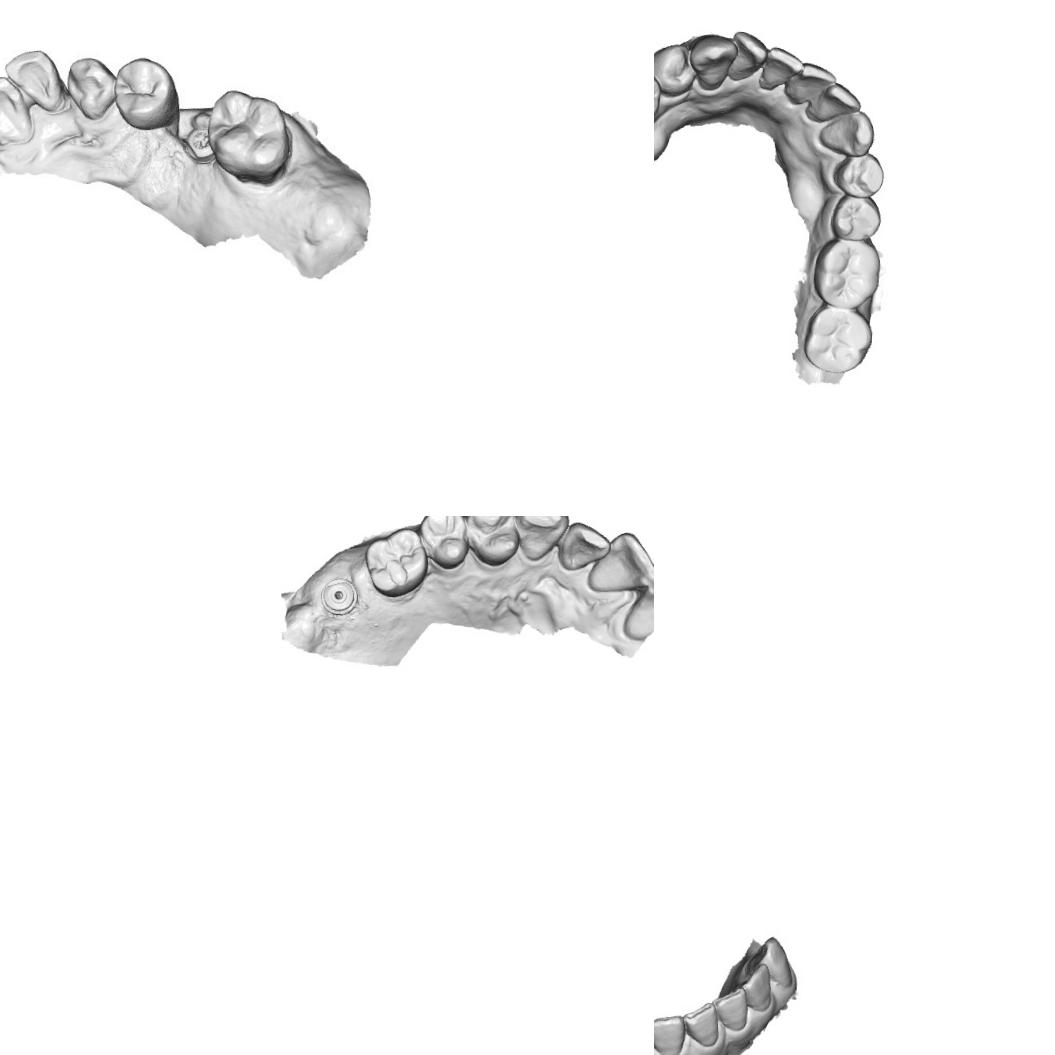canine: (60, 52, 118, 120), (686, 31, 739, 92), (816, 107, 876, 158), (510, 516, 570, 566)
implant: (319, 573, 358, 617), (184, 123, 218, 160)
incisor: (584, 527, 654, 598), (0, 46, 66, 112), (556, 518, 613, 576), (744, 933, 797, 988), (803, 79, 862, 125), (0, 71, 34, 147), (783, 59, 837, 106), (619, 572, 654, 641), (725, 29, 768, 82), (757, 45, 804, 92), (733, 961, 773, 1012), (681, 1000, 720, 1048), (710, 984, 748, 1032), (654, 1010, 685, 1055)
molar: (204, 87, 294, 186), (361, 524, 432, 600), (811, 236, 882, 310), (801, 303, 873, 375)
premolar: (112, 53, 182, 134), (414, 516, 472, 572), (459, 516, 521, 568), (829, 192, 882, 241), (832, 150, 884, 199), (654, 40, 698, 97)
